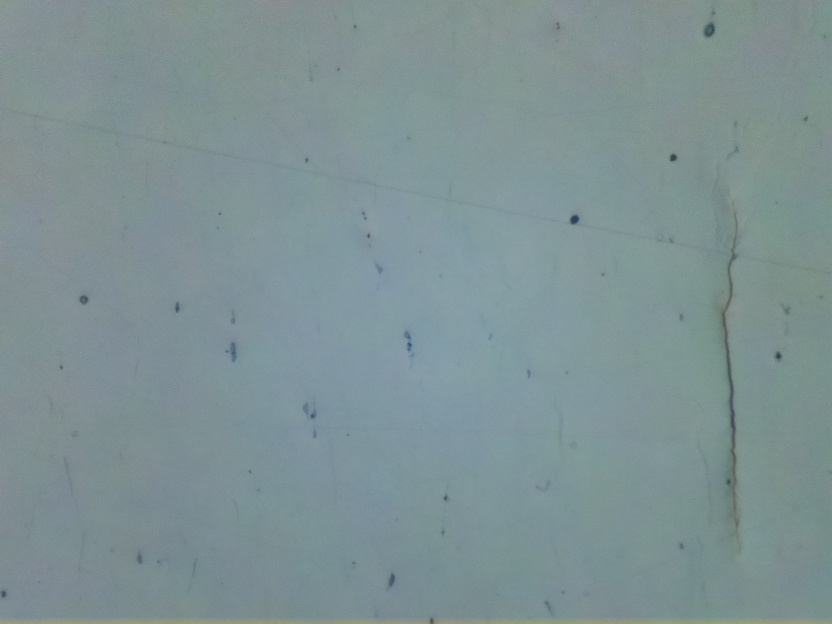crack: (714, 201, 752, 557)
